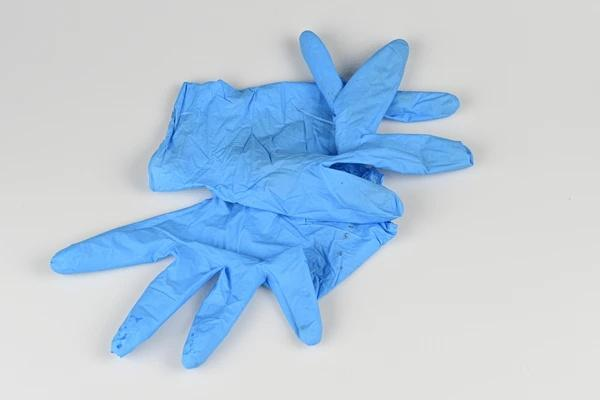Glove: (149, 40, 471, 222), (51, 198, 395, 367), (52, 198, 394, 366)
